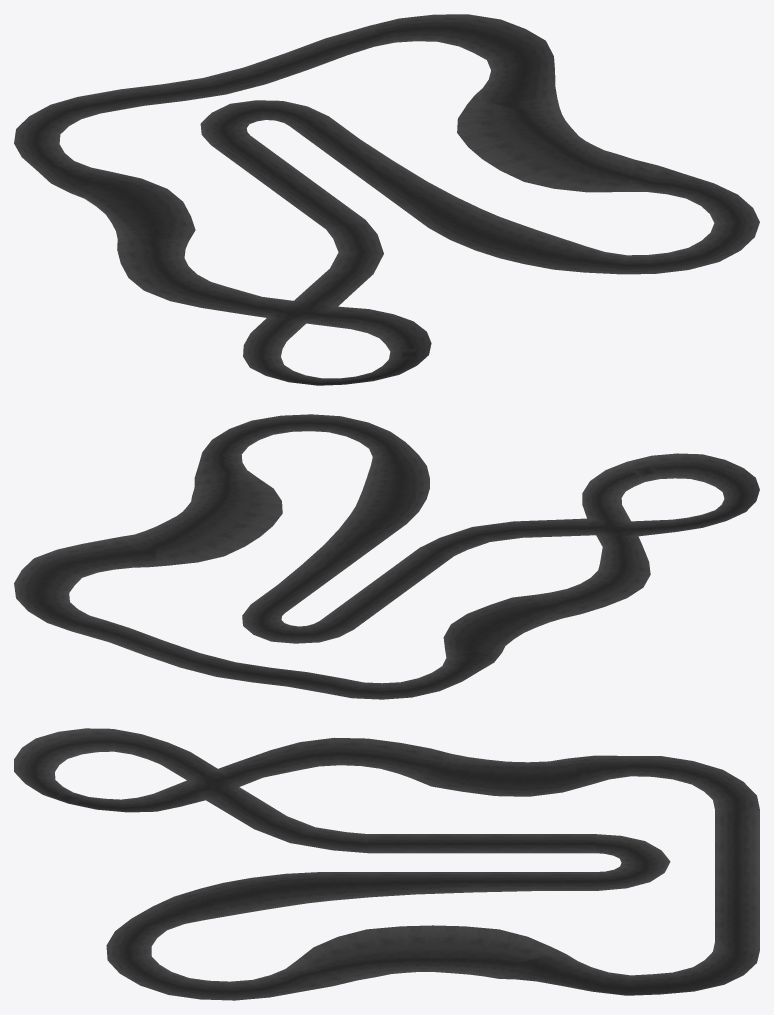
The model's file is road.obj.
The picture shows the model from 3 angles, top to bottom: view 1: azimuth 30°, elevation 25°; view 2: azimuth 150°, elevation 25°; view 3: azimuth 270°, elevation 25°; orthographic projection. The views are drawn at different scales.
Visible parts, largest first — view 1: road; view 2: road; view 3: road.
Part boxes in pixels (left/top/right/bottom): road: left=14, top=14, right=759, bottom=385; road: left=14, top=414, right=759, bottom=699; road: left=14, top=728, right=759, bottom=1000.
Bounding box in the file's own units: 42.24 × 1.71 × 49.62.
Materials: 1 (1 with a texture image).
